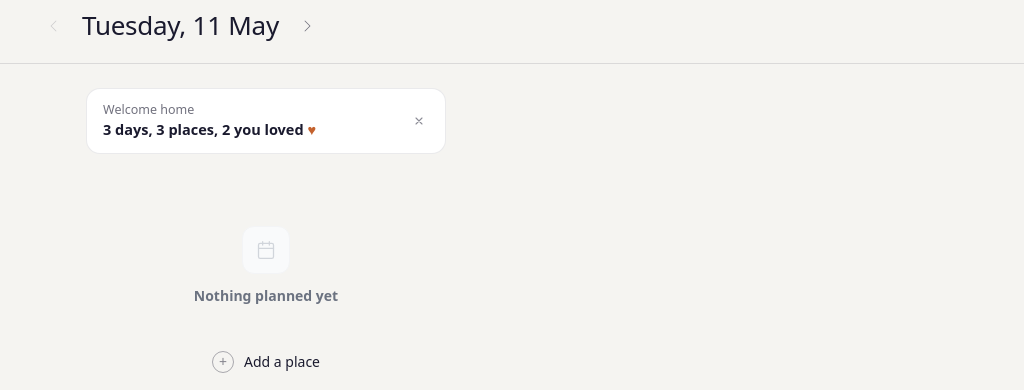
Scenario: Welcome home, after the journey (7 Oct 2026, delight audit) › two days after: the card adds the trip up, and the ✕ hides it for good
Expected: the element with test id "welcome-home" shows "Welcome home", [103, 101, 194, 118]
Expected: the element with test id "welcome-home" shows "3 days, 3 places, 2 you loved ♥", [86, 88, 446, 154]
Click the button named "Close welcome home" at (419, 121), box [401, 103, 437, 139]
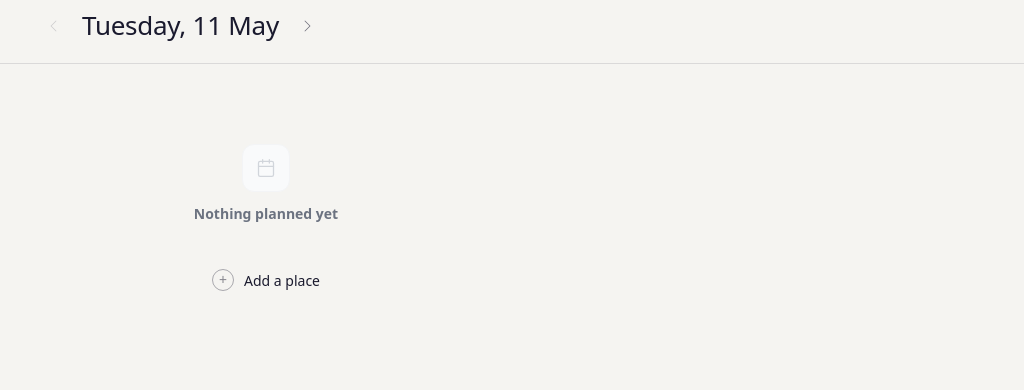
Result: the element with test id "welcome-home" is gone
